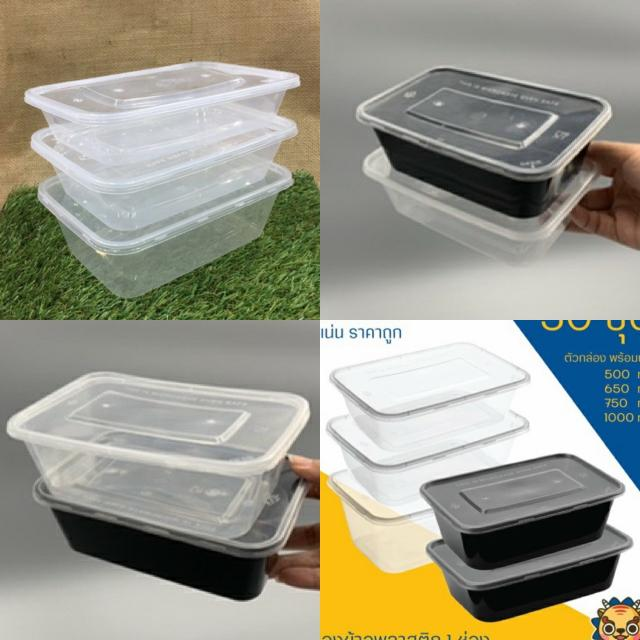Single-Use-Plastic: (9, 372, 310, 539), (356, 68, 611, 218), (32, 461, 306, 600), (39, 162, 292, 298), (31, 116, 295, 231), (25, 61, 300, 166), (362, 148, 599, 265), (420, 454, 624, 569), (330, 342, 530, 452), (426, 525, 632, 621), (326, 411, 529, 505), (328, 470, 439, 574)
